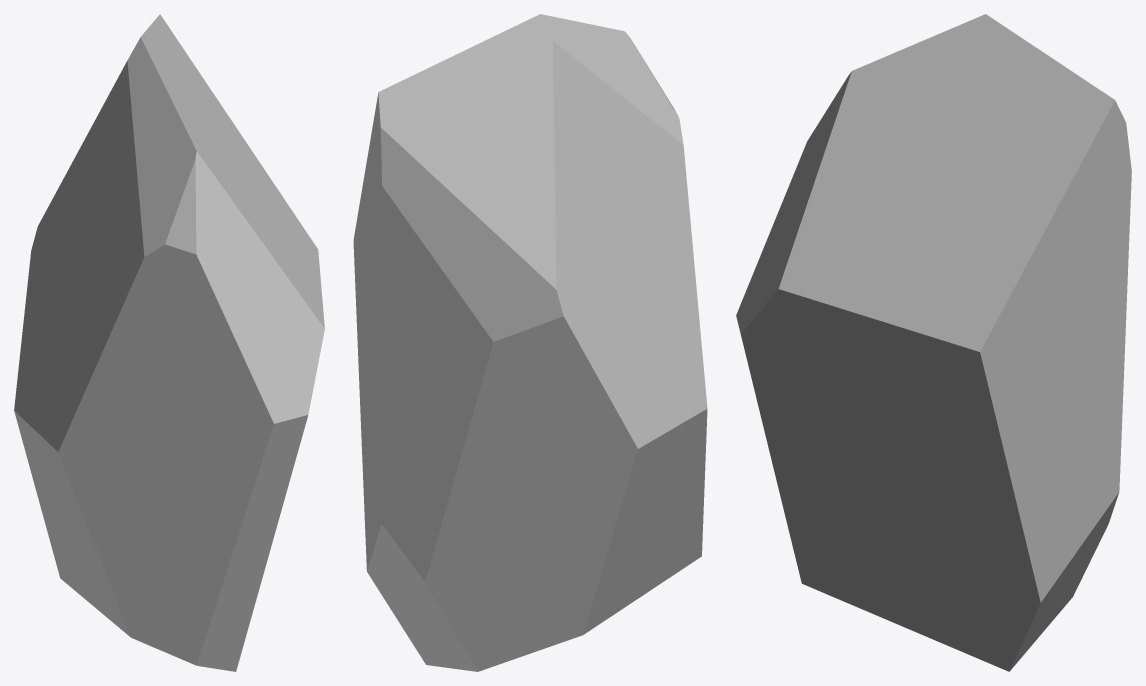
The model's file is Rock.fbx.
3 views of the same model, side by side, from view 1: azimuth 30°, elevation 25°; view 2: azimuth 150°, elevation 25°; view 3: azimuth 270°, elevation 25° (orthographic). The views are drawn at different scales.
Parts seen in each view (by area): view 1: Rock.024; view 2: Rock.024; view 3: Rock.024.
Boxes of the visible parts, left/top/right/bottom form: Rock.024: left=14, top=14, right=324, bottom=671; Rock.024: left=353, top=14, right=707, bottom=671; Rock.024: left=736, top=14, right=1131, bottom=671.
Size of the model in its own units: 96.95 by 194 by 114.
